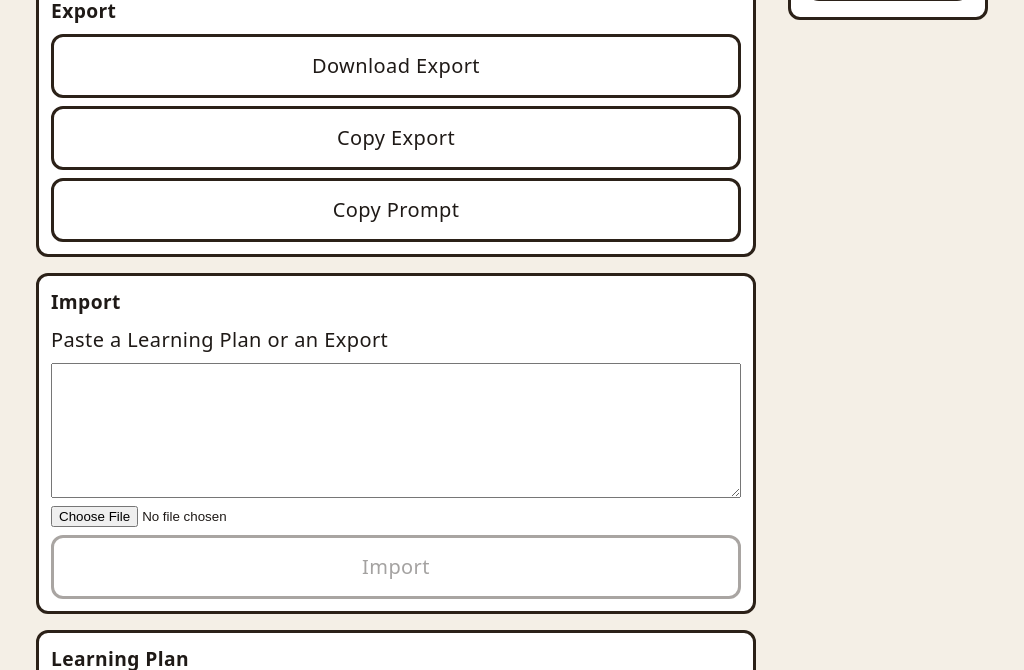
GuideScreen › Copy Prompt copies the Learning Plan prompt with the Export pasted after it
The width and height of the screenshot is (1024, 670).
Click the button "Copy Prompt": (396, 210) x1=51 y1=178 x2=741 y2=242
(page scrolled)
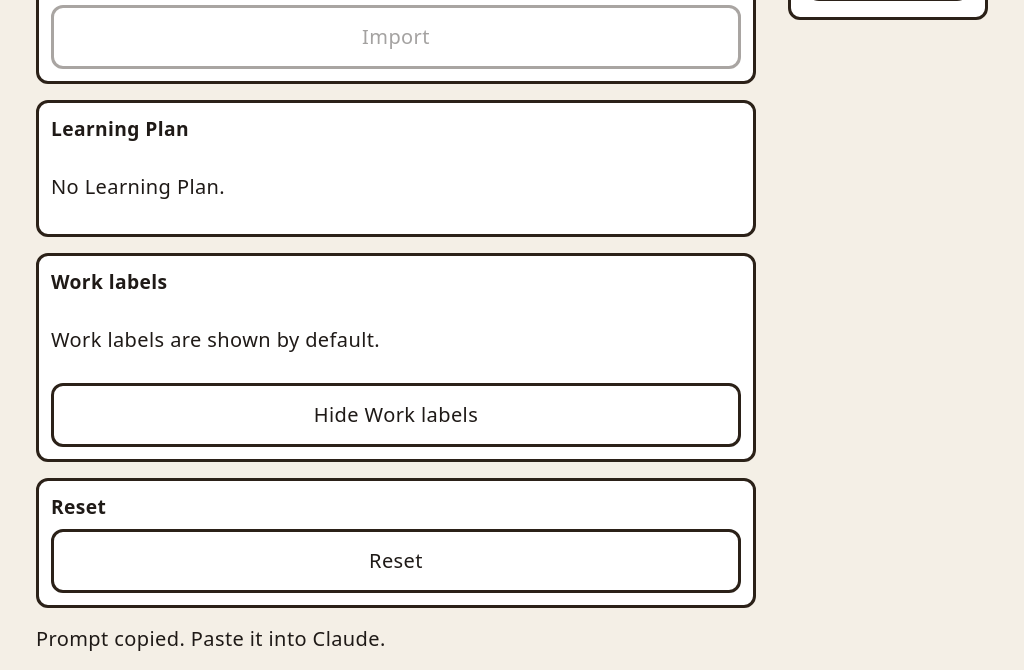
Expected: the text "Prompt copied. Paste it into Claude." is shown, x1=36 y1=626 x2=386 y2=652
